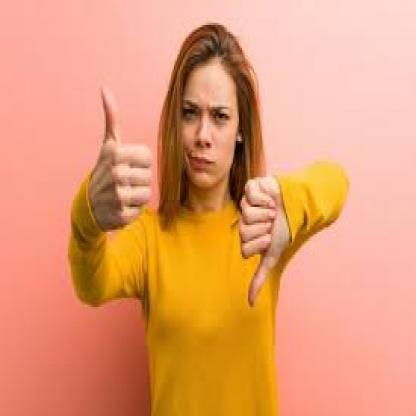thumb_down: (234, 169, 291, 309)
thumb_up: (80, 81, 154, 232)
